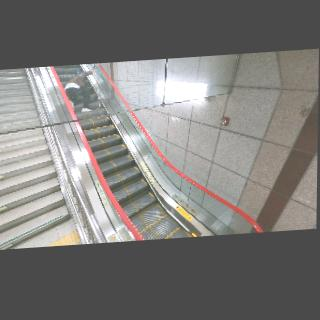anomaly: (60, 68, 97, 115)
